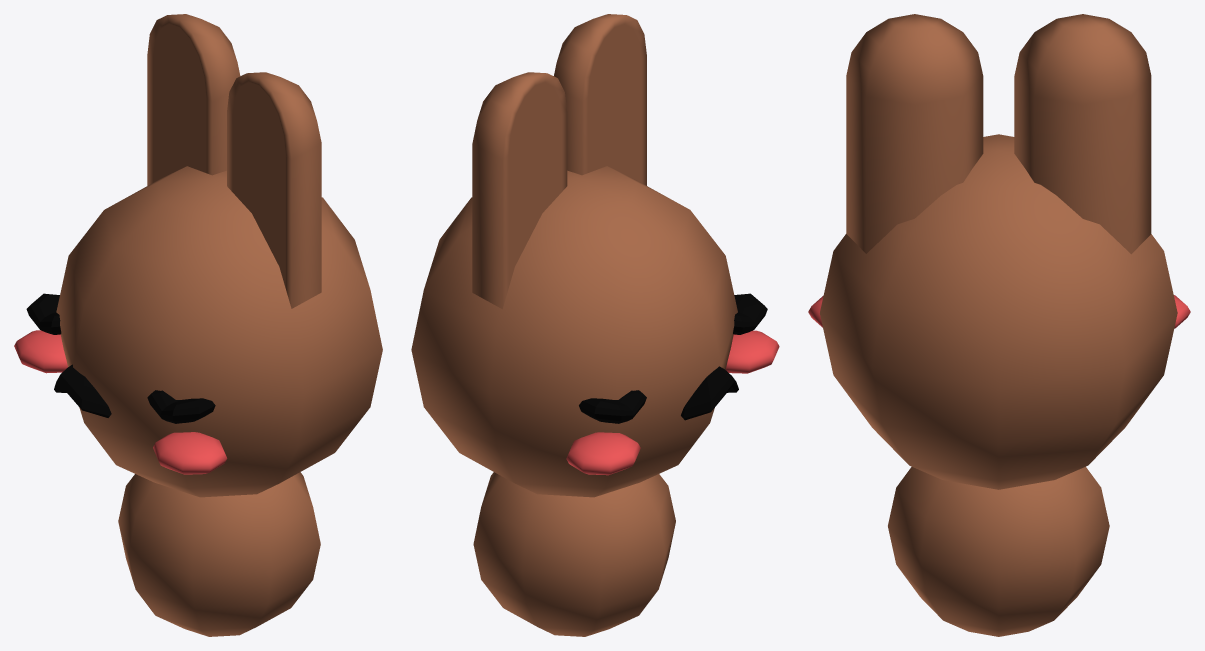
The model's file is SofisticatedBun_Brown.fbx.
3 views of the same model, side by side, from view 1: azimuth 30°, elevation 25°; view 2: azimuth 150°, elevation 25°; view 3: azimuth 270°, elevation 25° (orthographic). The views are drawn at different scales.
Visible parts, largest first — view 1: SofisticatedBun_Brown; view 2: SofisticatedBun_Brown; view 3: SofisticatedBun_Brown.
Part boxes in pixels (x1=…): SofisticatedBun_Brown: x1=14, y1=14, x2=382, y2=636; SofisticatedBun_Brown: x1=411, y1=14, x2=779, y2=636; SofisticatedBun_Brown: x1=808, y1=14, x2=1190, y2=636.
Size of the model in its own units: 106 by 191 by 108.
